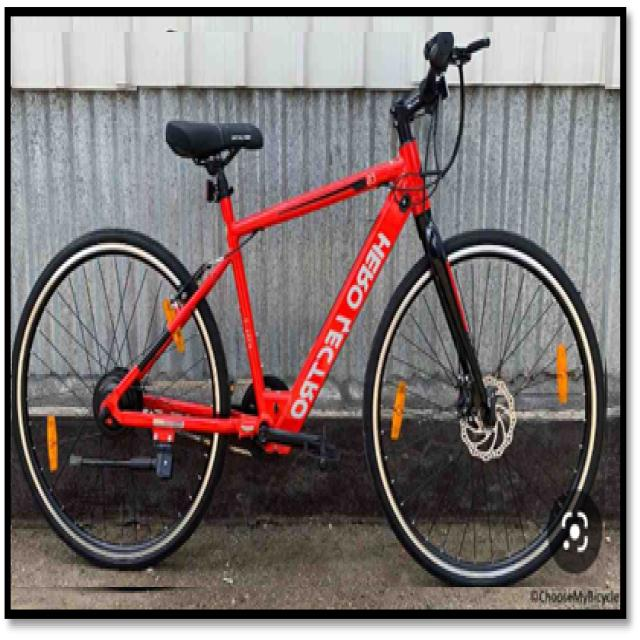bicycle: (12, 32, 605, 587)
